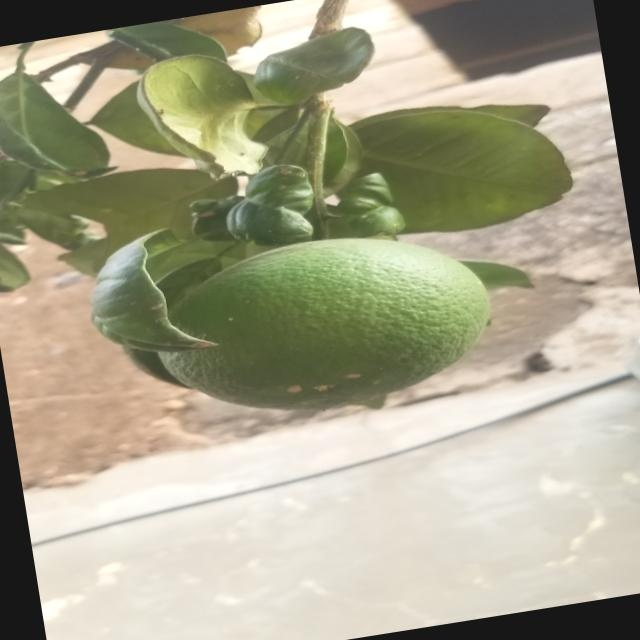agrume: (135, 203, 523, 451)
